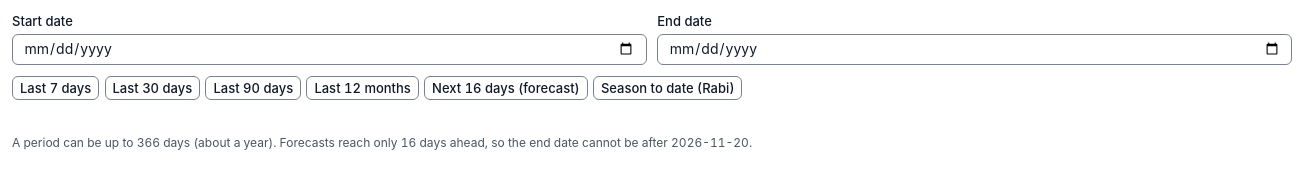
Scenario: DateRangeField › says how many days are selected as the dates change
Type "2026-10-01" into the date field labelled "Start date". click: [329, 49]
box: [12,34,647,65]
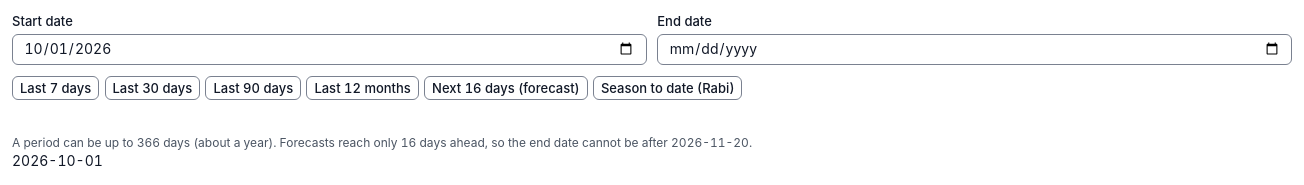
Type "2026-10-01" into the date field labelled "End date". click: [975, 49]
box: [657,34,1292,65]
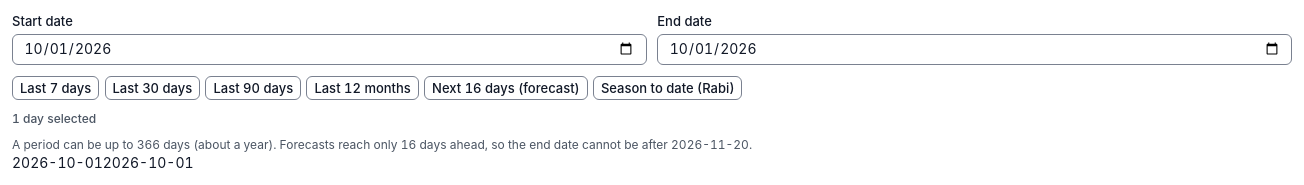
Expected: the text "1 day selected" is shown, [12,110,96,126]
Type "2026-10-10" into the date field labelled "End date". click: [975, 49]
box: [657,34,1292,65]
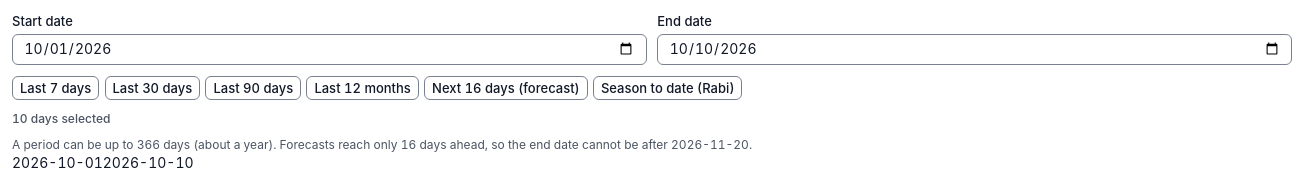
Expected: the text "10 days selected" is shown, [12,110,110,126]
